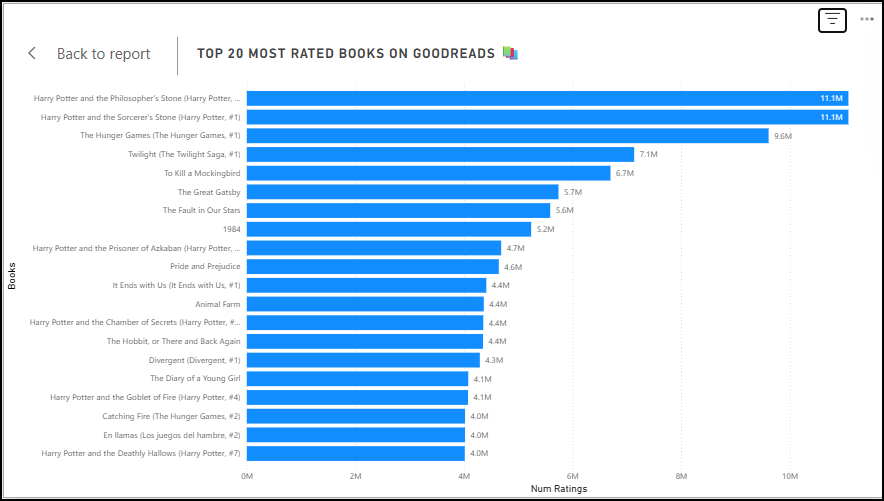

The page's visual inventory and layout, read from the dashboard file:
{"tool":"powerbi","page":{"name":"Page 2","canvas":[1280,720],"ordinal":1},"visuals":[{"type":"clusteredBarChart","title":"Top 20 Most Rated Books on Goodreads 📚","fields":{"Category":["goodreads_books_cleaned.Title"],"Y":["Max(goodreads_books_cleaned.Num Ratings)"]},"box":[0,0,278.9,280.7],"z":0}]}

Visuals, with their boxes on the page's 1280x720 design canvas (x1, y1, x2, y2). These are canvas units, not pixel positions in the 884x501 screenshot, which may show the page scaled, cropped or inside an application window:
"Top 20 Most Rated Books on Goodreads 📚" clusteredBarChart: bbox=(0, 0, 279, 281)
